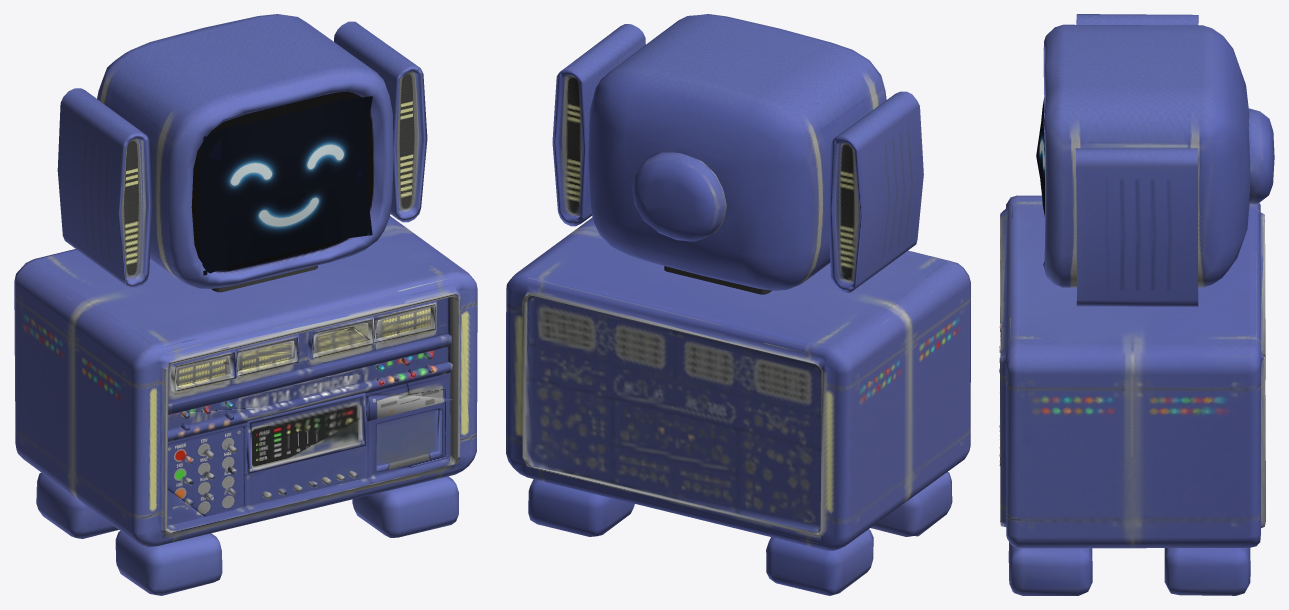
The model's file is default_superComputer.fbx.
3 renders of one model, left to right at view 1: azimuth 30°, elevation 25°; view 2: azimuth 150°, elevation 25°; view 3: azimuth 270°, elevation 25°, orthographic.
Visible parts, largest first — view 1: default_superComputer, default_superComputer_Face; view 2: default_superComputer; view 3: default_superComputer, default_superComputer_Face.
Boxes of the visible parts, x1=… form: default_superComputer: x1=14, y1=14, x2=477, y2=595; default_superComputer_Face: x1=199, y1=96, x2=372, y2=275; default_superComputer: x1=506, y1=14, x2=970, y2=595; default_superComputer: x1=999, y1=14, x2=1274, y2=595; default_superComputer_Face: x1=1036, y1=97, x2=1044, y2=265.
Size of the model in its own units: 1.55 by 2 by 1.08.
Materials: 2 (2 with a texture image).
